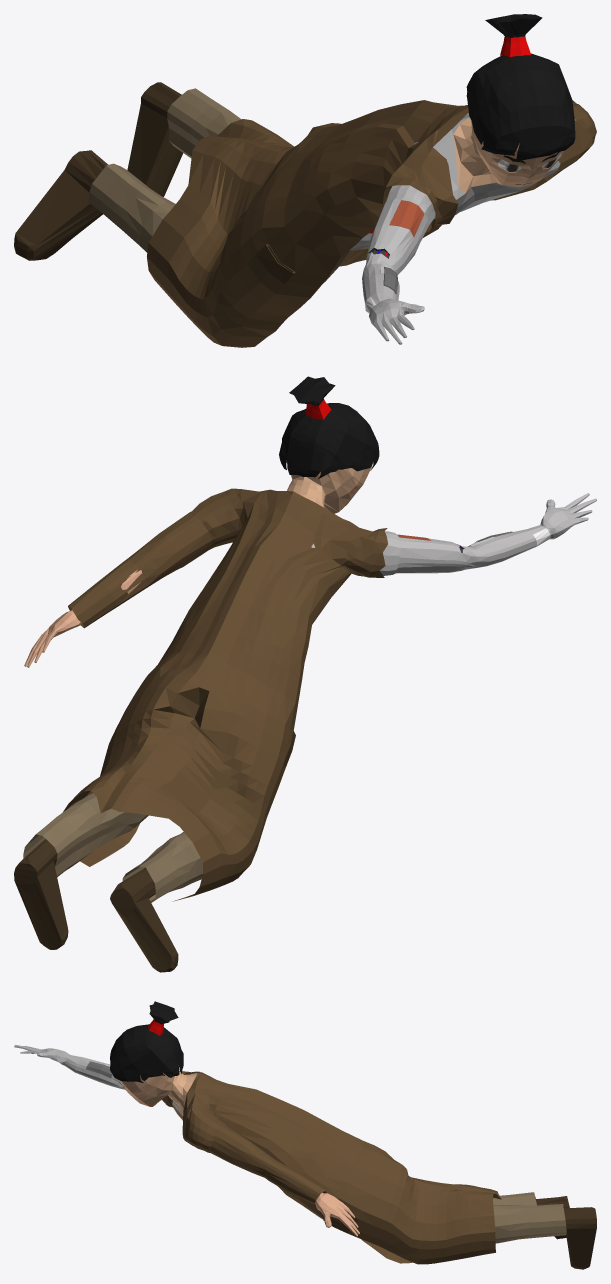
File: One_Die_000046.obj
The picture shows the model from 3 angles, top to bottom: view 1: azimuth 30°, elevation 25°; view 2: azimuth 150°, elevation 25°; view 3: azimuth 270°, elevation 25°; orthographic projection. The views are drawn at different scales.
Visible parts, largest first — view 1: Hair_Cube.004; view 2: Hair_Cube.004; view 3: Hair_Cube.004.
Boxes of the visible parts, box(x1,y1,x2,y2) form: Hair_Cube.004: box(14, 14, 596, 347); Hair_Cube.004: box(14, 376, 596, 972); Hair_Cube.004: box(14, 1001, 596, 1269).
Size of the model in its own units: 2.16 by 2.2 by 4.16.
